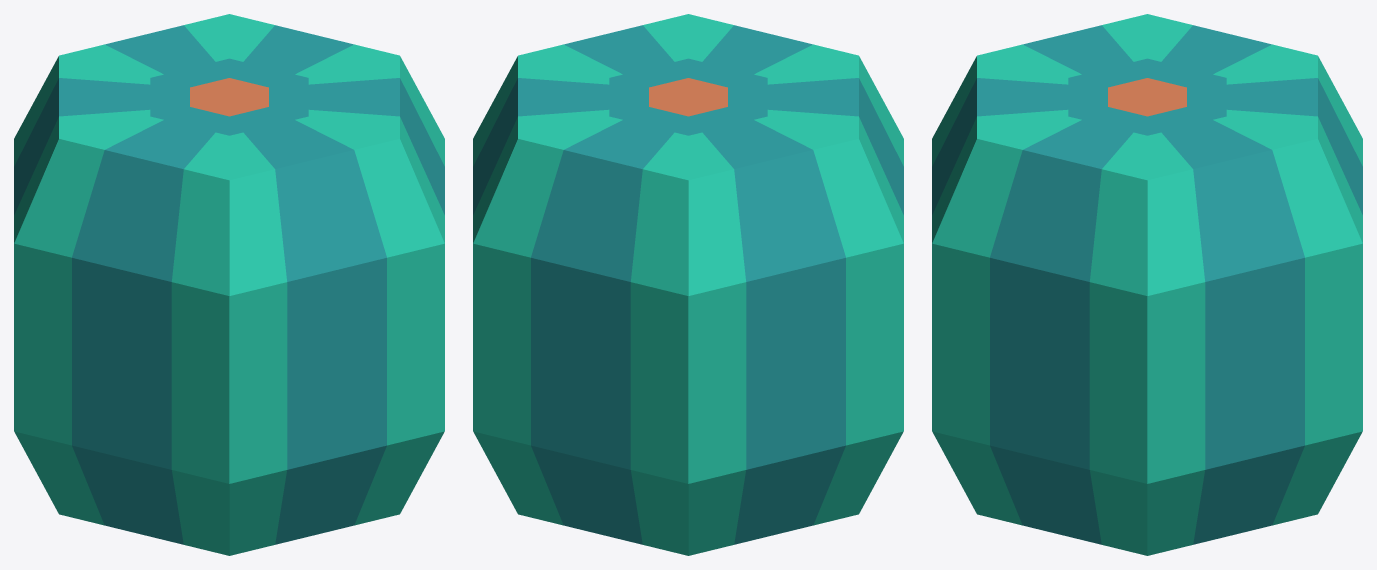
Rendered from crop-melon.glb.
3 views of the same model, side by side, from view 1: azimuth 30°, elevation 25°; view 2: azimuth 150°, elevation 25°; view 3: azimuth 270°, elevation 25° (orthographic).
Parts seen in each view (by area): view 1: crop_melon; view 2: crop_melon; view 3: crop_melon.
Boxes of the visible parts, <box> form: crop_melon: <box>14,14,444,555</box>; crop_melon: <box>473,14,903,555</box>; crop_melon: <box>932,14,1362,555</box>.
Size of the model in its own units: 0.4176 by 0.348 by 0.3617.
